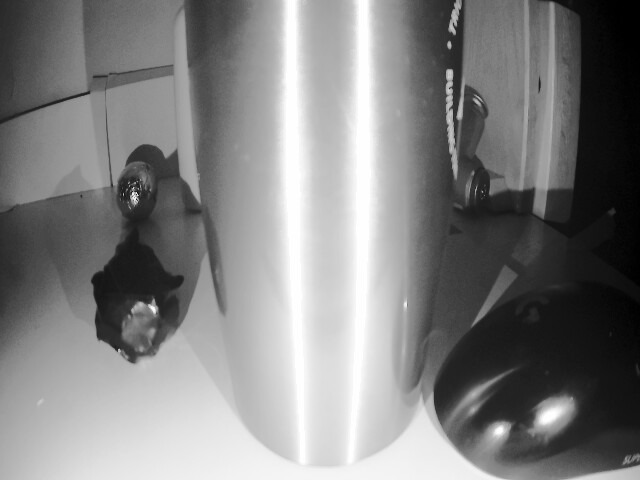black: (82, 238, 186, 360)
silver: (115, 161, 160, 228)
